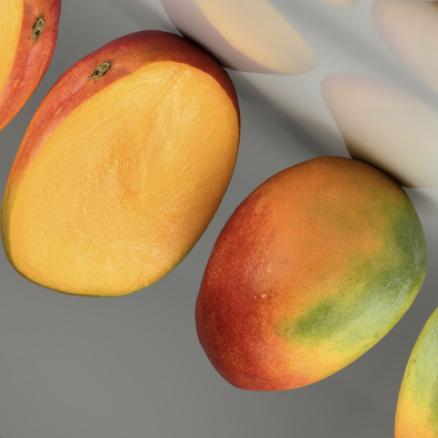mango: (0, 0, 308, 361), (146, 89, 438, 438)
